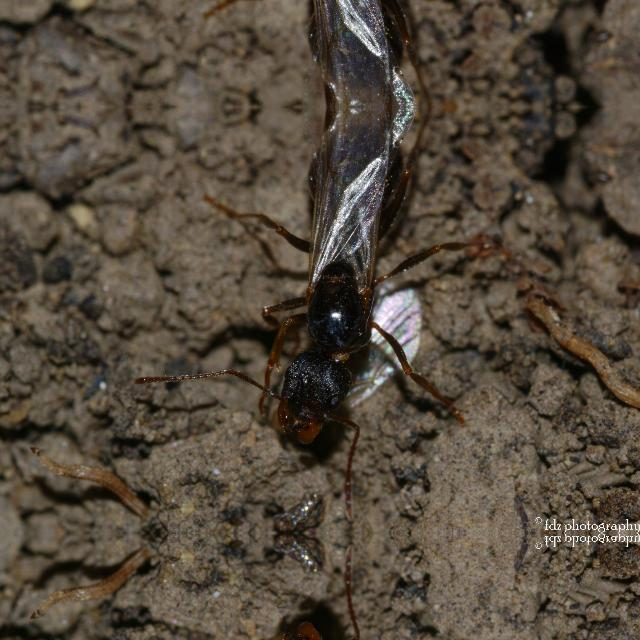Apheanogaster: (199, 106, 483, 462), (199, 0, 483, 106)
